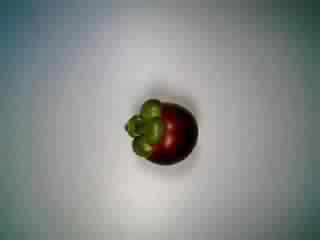mangosteen: (123, 93, 198, 168)
